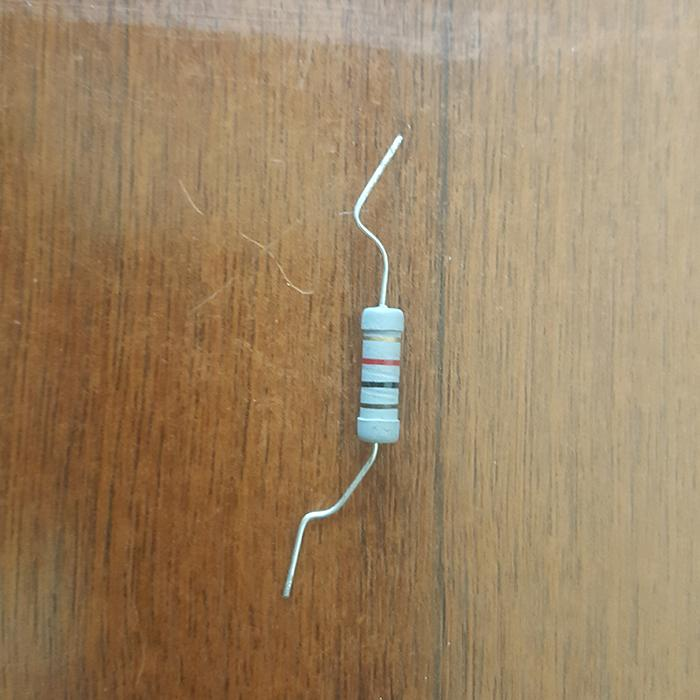resistor: (357, 304, 404, 441)
